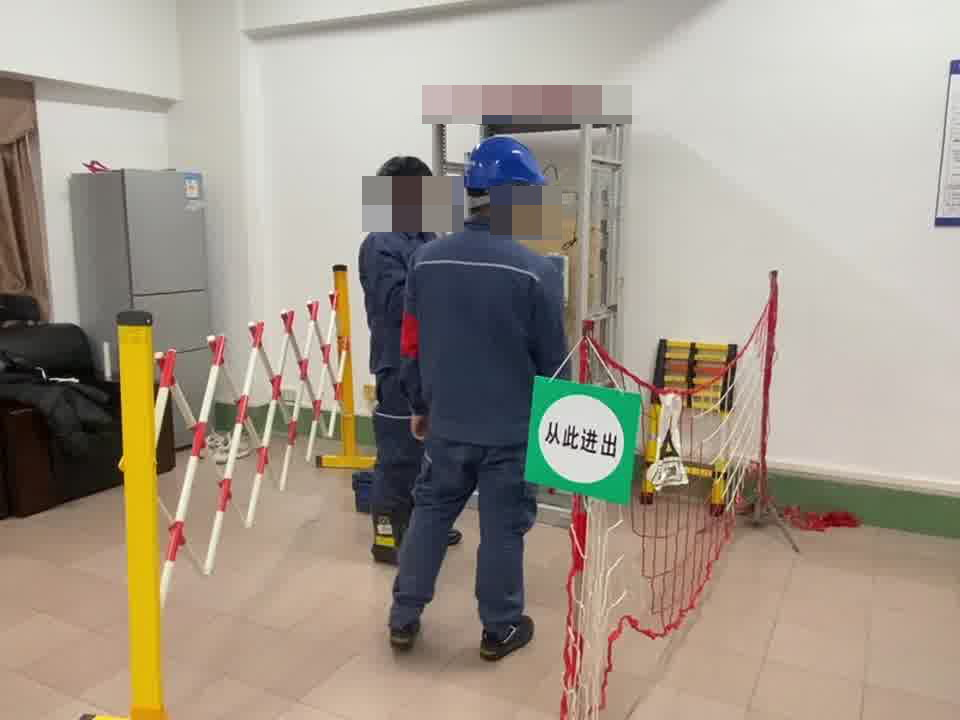badge: (400, 311, 422, 362)
downsuit: (392, 453, 537, 631)
halt: (459, 135, 554, 226)
hand: (410, 414, 429, 441)
inear: (489, 183, 528, 230)
intosign: (526, 381, 629, 498)
noear: (388, 191, 423, 219)
person: (387, 137, 572, 654), (355, 153, 447, 606)
shoe: (364, 511, 404, 564)
unhalt: (373, 155, 438, 224)
upsuit: (402, 220, 572, 439), (362, 226, 426, 407)
